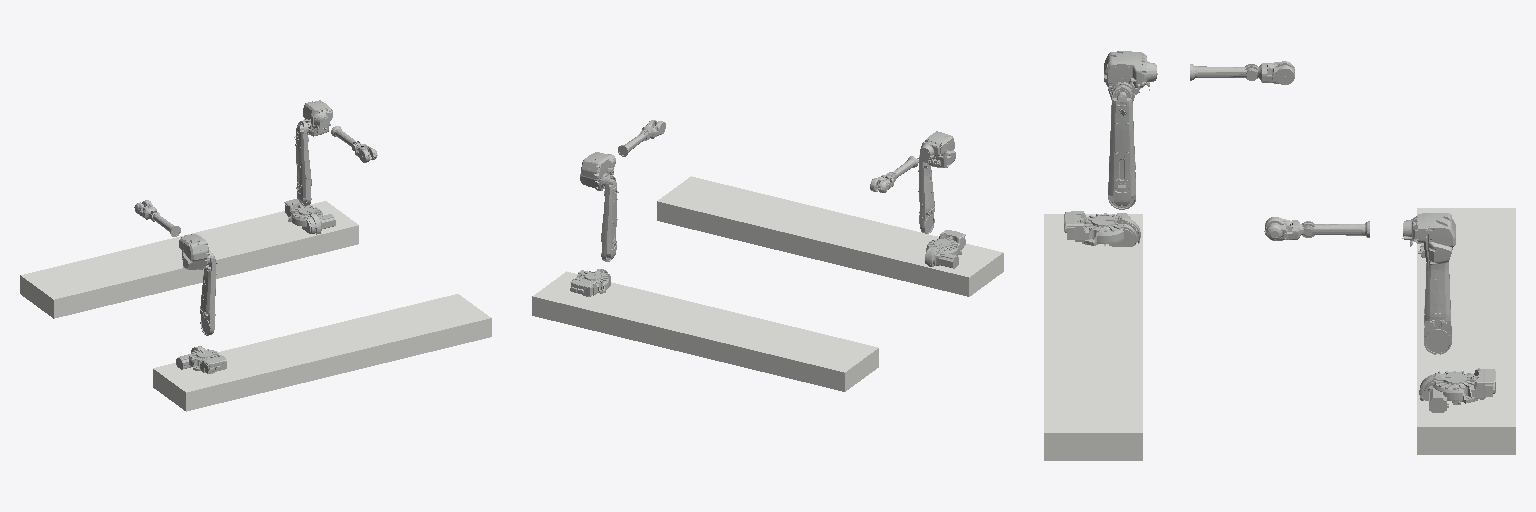
URDF robot description (princeton_cell):
<?xml version="1.0" ?>
<!-- =================================================================================== -->
<!-- |    This document was autogenerated by xacro from princeton_cell.xacro           | -->
<!-- |    EDITING THIS FILE BY HAND IS NOT RECOMMENDED                                 | -->
<!-- =================================================================================== -->
<robot name="princeton_cell">
  <link name="world"/>
  <joint name="r2_world_joint" type="fixed">
    <parent link="world"/>
    <child link="r2_axis"/>
    <origin rpy="0.0 0.0 0.0" xyz="0.0 0.0 0.0"/>
  </joint>
  <!-- Conversion were obtained from http://www.e-paint.co.uk/Lab_values.asp
       unless otherwise stated. -->
  <!-- Conversion were obtained from http://www.e-paint.co.uk/Lab_values.asp
       unless otherwise stated. -->
  <link name="r2_axis">
    <inertial>
      <origin xyz="0.0 0.0 0.0"/>
      <mass value="120"/>
      <inertia ixx="-4.98000" ixy="-0.00000" ixz="2.70000" iyy="-5.95200" iyz="-0.00000" izz="0.82800"/>
    </inertial>
    <visual>
      <geometry>
        <mesh filename="package://princeton_cell/meshes/visual/axis.stl"/>
      </geometry>
      <material name="">
        <color rgba="0.9254902 0.9254902 0.9058824 1"/>
      </material>
    </visual>
    <collision>
      <geometry>
        <mesh filename="package://princeton_cell/meshes/collision/axis.stl"/>
      </geometry>
    </collision>
  </link>
  <joint name="r2_cart_joint" type="prismatic">
    <parent link="r2_axis"/>
    <child link="r2_cart"/>
    <origin rpy="0 0 0 " xyz="0 0 0"/>
    <axis xyz="1 0 0"/>
    <limit effort="100000" lower="0" upper="3.9" velocity="2.618"/>
    <dynamics damping="0.2" friction="0"/>
  </joint>
  <link name="r2_cart">
    <inertial>
      <origin xyz="0.0 0.0 0.0"/>
      <mass value="120.00000"/>
      <inertia ixx="-4.98000" ixy="-0.00000" ixz="2.70000" iyy="-5.95200" iyz="-0.00000" izz="0.82800"/>
    </inertial>
    <visual>
      <geometry>
        <mesh filename="package://princeton_cell/meshes/visual/cart.stl"/>
      </geometry>
      <material name="">
        <color rgba="0.9254902 0.9254902 0.9058824 1"/>
      </material>
    </visual>
    <collision>
      <geometry>
        <mesh filename="package://princeton_cell/meshes/collision/cart.stl"/>
      </geometry>
    </collision>
  </link>
  <joint name="r2_abb_joint" type="fixed">
    <parent link="r2_cart"/>
    <child link="r2_base_link"/>
    <origin rpy="0 0 1.5707963267948966 " xyz="0 0 0 "/>
    <dynamics damping="0.2" friction="0"/>
  </joint>
  <!-- link list -->
  <link name="r2_base_link">
    <inertial>
      <origin xyz="0.0 0.0 0.0"/>
      <mass value="120.00000"/>
      <inertia ixx="-4.98000" ixy="-0.00000" ixz="2.70000" iyy="-5.95200" iyz="-0.00000" izz="0.82800"/>
    </inertial>
    <visual>
      <geometry>
        <mesh filename="package://abb_irb4600_40_255/meshes/visual/base_link.stl"/>
      </geometry>
      <material name="">
        <color rgba="0.7725490 0.7803922 0.7686275 1"/>
      </material>
    </visual>
    <collision>
      <geometry>
        <mesh filename="package://abb_irb4600_40_255/meshes/collision/base_link.stl"/>
      </geometry>
    </collision>
  </link>
  <link name="r2_link_1">
    <inertial>
      <origin xyz="0.18000 0.00000 0.50000"/>
      <mass value="120.00000"/>
      <inertia ixx="-4.98000" ixy="-0.00000" ixz="2.70000" iyy="-5.95200" iyz="-0.00000" izz="0.82800"/>
    </inertial>
    <visual>
      <geometry>
        <mesh filename="package://abb_irb4600_40_255/meshes/visual/link_1.stl"/>
      </geometry>
      <material name="">
        <color rgba="0.7725490 0.7803922 0.7686275 1"/>
      </material>
    </visual>
    <collision>
      <geometry>
        <mesh filename="package://abb_irb4600_40_255/meshes/collision/link_1.stl"/>
      </geometry>
    </collision>
  </link>
  <link name="r2_link_2">
    <inertial>
      <origin xyz="0.94000 0.08000 -0.34000"/>
      <mass value="120.00000"/>
      <inertia ixx="-2.96000" ixy="2.25600" ixz="-9.58800" iyy="-18.72601" iyz="-0.81600" izz="-14.95000"/>
    </inertial>
    <visual>
      <geometry>
        <mesh filename="package://abb_irb4600_40_255/meshes/visual/link_2.stl"/>
      </geometry>
      <material name="">
        <color rgba="0.7725490 0.7803922 0.7686275 1"/>
      </material>
    </visual>
    <collision>
      <geometry>
        <mesh filename="package://abb_irb4600_40_255/meshes/collision/link_2.stl"/>
      </geometry>
    </collision>
  </link>
  <link name="r2_link_3">
    <inertial>
      <origin xyz="0.07000 -0.26600 0.08800"/>
      <mass value="120.00000"/>
      <inertia ixx="1.34500" ixy="-0.55860" ixz="0.18480" iyy="4.65068" iyz="-0.70224" izz="2.76032"/>
    </inertial>
    <visual>
      <geometry>
        <mesh filename="package://abb_irb4600_40_255/meshes/visual/link_3.stl"/>
      </geometry>
      <material name="">
        <color rgba="0.7725490 0.7803922 0.7686275 1"/>
      </material>
    </visual>
    <collision>
      <geometry>
        <mesh filename="package://abb_irb4600_40_255/meshes/collision/link_3.stl"/>
      </geometry>
    </collision>
  </link>
  <link name="r2_link_4">
    <inertial>
      <origin xyz="0.00000 0.00000 1.00000"/>
      <mass value="40.00000"/>
      <inertia ixx="-8.00000" ixy="-0.00000" ixz="-0.00000" iyy="-8.00000" iyz="-0.00000" izz="0.48200"/>
    </inertial>
    <visual>
      <geometry>
        <mesh filename="package://abb_irb4600_40_255/meshes/visual/link_4.stl"/>
      </geometry>
      <material name="">
        <color rgba="0.7725490 0.7803922 0.7686275 1"/>
      </material>
    </visual>
    <collision>
      <geometry>
        <mesh filename="package://abb_irb4600_40_255/meshes/collision/link_4.stl"/>
      </geometry>
    </collision>
  </link>
  <link name="r2_link_5">
    <inertial>
      <origin xyz="0.14000 0.00000 0.00000"/>
      <mass value="10.00000"/>
      <inertia ixx="0.04000" ixy="-0.00000" ixz="-0.00000" iyy="-0.00900" iyz="-0.00000" izz="-0.00400"/>
    </inertial>
    <visual>
      <geometry>
        <mesh filename="package://abb_irb4600_40_255/meshes/visual/link_5.stl"/>
      </geometry>
      <material name="">
        <color rgba="0.7725490 0.7803922 0.7686275 1"/>
      </material>
    </visual>
    <collision>
      <geometry>
        <mesh filename="package://abb_irb4600_40_255/meshes/collision/link_5.stl"/>
      </geometry>
    </collision>
  </link>
  <link name="r2_link_6">
    <inertial>
      <origin xyz="0.08100 -0.09100 0.33200"/>
      <mass value="5.00000"/>
      <inertia ixx="-0.29652" ixy="-0.03686" ixz="0.09396" iyy="-0.28792" iyz="-0.10556" izz="-0.04621"/>
    </inertial>
    <visual>
      <geometry>
        <mesh filename="package://abb_irb4600_40_255/meshes/visual/link_6.stl"/>
      </geometry>
      <material name="">
        <color rgba="0.1882353 0.1960784 0.2039216 1"/>
      </material>
    </visual>
    <collision>
      <geometry>
        <mesh filename="package://abb_irb4600_40_255/meshes/collision/link_6.stl"/>
      </geometry>
    </collision>
  </link>
  <link name="r2_tool0"/>
  <!-- end of link list -->
  <!-- joint list -->
  <joint name="r2_joint_1" type="revolute">
    <parent link="r2_base_link"/>
    <child link="r2_link_1"/>
    <origin rpy="0 0 0 " xyz="0 0 0"/>
    <axis xyz="0 0 1"/>
    <limit effort="100000" lower="-3.14159" upper="3.14159" velocity="2.618"/>
    <dynamics damping="0.2" friction="0"/>
  </joint>
  <joint name="r2_joint_2" type="revolute">
    <parent link="r2_link_1"/>
    <child link="r2_link_2"/>
    <origin rpy="0 -0 0 " xyz="0.175 0 0.495"/>
    <axis xyz="0 1 0"/>
    <limit effort="100000" lower="-1.5708" upper="2.61799" velocity="2.618"/>
    <dynamics damping="0.2" friction="0"/>
  </joint>
  <joint name="r2_joint_3" type="revolute">
    <parent link="r2_link_2"/>
    <child link="r2_link_3"/>
    <origin rpy="0 -0 0 " xyz="0 0 1.095"/>
    <axis xyz="0 1 0"/>
    <limit effort="100000" lower="-3.14159" upper="1.309" velocity="2.618"/>
    <dynamics damping="0.2" friction="0"/>
  </joint>
  <joint name="r2_joint_4" type="revolute">
    <parent link="r2_link_3"/>
    <child link="r2_link_4"/>
    <origin rpy="0 -0 0 " xyz="0.332 0 0.175"/>
    <axis xyz="1 0 0"/>
    <limit effort="10000" lower="-6.98132" upper="6.98132" velocity="6.2832"/>
    <dynamics damping="0.2" friction="0"/>
  </joint>
  <joint name="r2_joint_5" type="revolute">
    <parent link="r2_link_4"/>
    <child link="r2_link_5"/>
    <origin rpy="0 -0 0 " xyz="0.939 0 0"/>
    <axis xyz="0 1 0"/>
    <limit effort="100000" lower="-2.18166" upper="2.0944" velocity="6.2832"/>
    <dynamics damping="0.2" friction="0"/>
  </joint>
  <joint name="r2_joint_6" type="revolute">
    <parent link="r2_link_5"/>
    <child link="r2_link_6"/>
    <origin rpy="0 1.57076 0 " xyz="0.135 0 0"/>
    <axis xyz="0 0 1"/>
    <limit effort="100000" lower="-6.98132" upper="6.98132" velocity="7.854"/>
    <dynamics damping="0.2" friction="0"/>
  </joint>
  <joint name="r2_joint_6-tool0" type="fixed">
    <parent link="r2_link_6"/>
    <child link="r2_tool0"/>
    <origin rpy="0 0 0" xyz="0 0 0"/>
  </joint>
  <!-- end of joint list -->
  <!-- ROS base_link to ABB World Coordinates transform -->
  <link name="r2_base"/>
  <joint name="r2_base_link-base" type="fixed">
    <origin rpy="0 0 0" xyz="0 0 0"/>
    <parent link="r2_base_link"/>
    <child link="r2_base"/>
  </joint>
  <!-- Create a fixed joint with a parameterized name. -->
  <joint name="r2_gripper_joint" type="fixed">
    <!-- The parent link must be read from the robot model it is attached to. -->
    <parent link="r2_tool0"/>
    <child link="r2_gripper"/>
    <!-- The tool is directly attached to the flange. -->
    <origin rpy="0 0 0" xyz="0 0 0"/>
  </joint>
  <link name="r2_gripper">
    <visual>
      <geometry>
        <!-- The path to the visual meshes in the package. -->
        <mesh filename="package://princeton_cell/meshes/visual/gripper.stl"/>
      </geometry>
    </visual>
    <collision>
      <geometry>
        <!-- The path to the collision meshes in the package. -->
        <mesh filename="package://princeton_cell/meshes/collision/gripper.stl"/>
      </geometry>
    </collision>
  </link>
  <!-- TCP frame -->
  <joint name="r2_tcp_joint" type="fixed">
    <origin rpy="0 0 0" xyz="0 0 0.352"/>
    <parent link="r2_gripper"/>
    <child link="r2_tcp"/>
  </joint>
  <link name="r2_tcp"/>
  <joint name="r1_world_joint" type="fixed">
    <parent link="world"/>
    <child link="r1_axis"/>
    <origin rpy="0.0 0.0 3.14159" xyz="3.70 3.45 0.02"/>
  </joint>
  <!-- Conversion were obtained from http://www.e-paint.co.uk/Lab_values.asp
       unless otherwise stated. -->
  <!-- Conversion were obtained from http://www.e-paint.co.uk/Lab_values.asp
       unless otherwise stated. -->
  <link name="r1_axis">
    <inertial>
      <origin xyz="0.0 0.0 0.0"/>
      <mass value="120"/>
      <inertia ixx="-4.98000" ixy="-0.00000" ixz="2.70000" iyy="-5.95200" iyz="-0.00000" izz="0.82800"/>
    </inertial>
    <visual>
      <geometry>
        <mesh filename="package://princeton_cell/meshes/visual/axis.stl"/>
      </geometry>
      <material name="">
        <color rgba="0.9254902 0.9254902 0.9058824 1"/>
      </material>
    </visual>
    <collision>
      <geometry>
        <mesh filename="package://princeton_cell/meshes/collision/axis.stl"/>
      </geometry>
    </collision>
  </link>
  <joint name="r1_cart_joint" type="prismatic">
    <parent link="r1_axis"/>
    <child link="r1_cart"/>
    <origin rpy="0 0 0 " xyz="0 0 0"/>
    <axis xyz="1 0 0"/>
    <limit effort="100000" lower="0" upper="3.9" velocity="2.618"/>
    <dynamics damping="0.2" friction="0"/>
  </joint>
  <link name="r1_cart">
    <inertial>
      <origin xyz="0.0 0.0 0.0"/>
      <mass value="120.00000"/>
      <inertia ixx="-4.98000" ixy="-0.00000" ixz="2.70000" iyy="-5.95200" iyz="-0.00000" izz="0.82800"/>
    </inertial>
    <visual>
      <geometry>
        <mesh filename="package://princeton_cell/meshes/visual/cart.stl"/>
      </geometry>
      <material name="">
        <color rgba="0.9254902 0.9254902 0.9058824 1"/>
      </material>
    </visual>
    <collision>
      <geometry>
        <mesh filename="package://princeton_cell/meshes/collision/cart.stl"/>
      </geometry>
    </collision>
  </link>
  <joint name="r1_abb_joint" type="fixed">
    <parent link="r1_cart"/>
    <child link="r1_base_link"/>
    <origin rpy="0 0 1.5707963267948966 " xyz="0 0 0 "/>
    <dynamics damping="0.2" friction="0"/>
  </joint>
  <!-- link list -->
  <link name="r1_base_link">
    <inertial>
      <origin xyz="0.0 0.0 0.0"/>
      <mass value="120.00000"/>
      <inertia ixx="-4.98000" ixy="-0.00000" ixz="2.70000" iyy="-5.95200" iyz="-0.00000" izz="0.82800"/>
    </inertial>
    <visual>
      <geometry>
        <mesh filename="package://abb_irb4600_40_255/meshes/visual/base_link.stl"/>
      </geometry>
      <material name="">
        <color rgba="0.7725490 0.7803922 0.7686275 1"/>
      </material>
    </visual>
    <collision>
      <geometry>
        <mesh filename="package://abb_irb4600_40_255/meshes/collision/base_link.stl"/>
      </geometry>
    </collision>
  </link>
  <link name="r1_link_1">
    <inertial>
      <origin xyz="0.18000 0.00000 0.50000"/>
      <mass value="120.00000"/>
      <inertia ixx="-4.98000" ixy="-0.00000" ixz="2.70000" iyy="-5.95200" iyz="-0.00000" izz="0.82800"/>
    </inertial>
    <visual>
      <geometry>
        <mesh filename="package://abb_irb4600_40_255/meshes/visual/link_1.stl"/>
      </geometry>
      <material name="">
        <color rgba="0.7725490 0.7803922 0.7686275 1"/>
      </material>
    </visual>
    <collision>
      <geometry>
        <mesh filename="package://abb_irb4600_40_255/meshes/collision/link_1.stl"/>
      </geometry>
    </collision>
  </link>
  <link name="r1_link_2">
    <inertial>
      <origin xyz="0.94000 0.08000 -0.34000"/>
      <mass value="120.00000"/>
      <inertia ixx="-2.96000" ixy="2.25600" ixz="-9.58800" iyy="-18.72601" iyz="-0.81600" izz="-14.95000"/>
    </inertial>
    <visual>
      <geometry>
        <mesh filename="package://abb_irb4600_40_255/meshes/visual/link_2.stl"/>
      </geometry>
      <material name="">
        <color rgba="0.7725490 0.7803922 0.7686275 1"/>
      </material>
    </visual>
    <collision>
      <geometry>
        <mesh filename="package://abb_irb4600_40_255/meshes/collision/link_2.stl"/>
      </geometry>
    </collision>
  </link>
  <link name="r1_link_3">
    <inertial>
      <origin xyz="0.07000 -0.26600 0.08800"/>
      <mass value="120.00000"/>
      <inertia ixx="1.34500" ixy="-0.55860" ixz="0.18480" iyy="4.65068" iyz="-0.70224" izz="2.76032"/>
    </inertial>
    <visual>
      <geometry>
        <mesh filename="package://abb_irb4600_40_255/meshes/visual/link_3.stl"/>
      </geometry>
      <material name="">
        <color rgba="0.7725490 0.7803922 0.7686275 1"/>
      </material>
    </visual>
    <collision>
      <geometry>
        <mesh filename="package://abb_irb4600_40_255/meshes/collision/link_3.stl"/>
      </geometry>
    </collision>
  </link>
  <link name="r1_link_4">
    <inertial>
      <origin xyz="0.00000 0.00000 1.00000"/>
      <mass value="40.00000"/>
      <inertia ixx="-8.00000" ixy="-0.00000" ixz="-0.00000" iyy="-8.00000" iyz="-0.00000" izz="0.48200"/>
    </inertial>
    <visual>
      <geometry>
        <mesh filename="package://abb_irb4600_40_255/meshes/visual/link_4.stl"/>
      </geometry>
      <material name="">
        <color rgba="0.7725490 0.7803922 0.7686275 1"/>
      </material>
    </visual>
    <collision>
      <geometry>
        <mesh filename="package://abb_irb4600_40_255/meshes/collision/link_4.stl"/>
      </geometry>
    </collision>
  </link>
  <link name="r1_link_5">
    <inertial>
      <origin xyz="0.14000 0.00000 0.00000"/>
      <mass value="10.00000"/>
      <inertia ixx="0.04000" ixy="-0.00000" ixz="-0.00000" iyy="-0.00900" iyz="-0.00000" izz="-0.00400"/>
    </inertial>
    <visual>
      <geometry>
        <mesh filename="package://abb_irb4600_40_255/meshes/visual/link_5.stl"/>
      </geometry>
      <material name="">
        <color rgba="0.7725490 0.7803922 0.7686275 1"/>
      </material>
    </visual>
    <collision>
      <geometry>
        <mesh filename="package://abb_irb4600_40_255/meshes/collision/link_5.stl"/>
      </geometry>
    </collision>
  </link>
  <link name="r1_link_6">
    <inertial>
      <origin xyz="0.08100 -0.09100 0.33200"/>
      <mass value="5.00000"/>
      <inertia ixx="-0.29652" ixy="-0.03686" ixz="0.09396" iyy="-0.28792" iyz="-0.10556" izz="-0.04621"/>
    </inertial>
    <visual>
      <geometry>
        <mesh filename="package://abb_irb4600_40_255/meshes/visual/link_6.stl"/>
      </geometry>
      <material name="">
        <color rgba="0.1882353 0.1960784 0.2039216 1"/>
      </material>
    </visual>
    <collision>
      <geometry>
        <mesh filename="package://abb_irb4600_40_255/meshes/collision/link_6.stl"/>
      </geometry>
    </collision>
  </link>
  <link name="r1_tool0"/>
  <!-- end of link list -->
  <!-- joint list -->
  <joint name="r1_joint_1" type="revolute">
    <parent link="r1_base_link"/>
    <child link="r1_link_1"/>
    <origin rpy="0 0 0 " xyz="0 0 0"/>
    <axis xyz="0 0 1"/>
    <limit effort="100000" lower="-3.14159" upper="3.14159" velocity="2.618"/>
    <dynamics damping="0.2" friction="0"/>
  </joint>
  <joint name="r1_joint_2" type="revolute">
    <parent link="r1_link_1"/>
    <child link="r1_link_2"/>
    <origin rpy="0 -0 0 " xyz="0.175 0 0.495"/>
    <axis xyz="0 1 0"/>
    <limit effort="100000" lower="-1.5708" upper="2.61799" velocity="2.618"/>
    <dynamics damping="0.2" friction="0"/>
  </joint>
  <joint name="r1_joint_3" type="revolute">
    <parent link="r1_link_2"/>
    <child link="r1_link_3"/>
    <origin rpy="0 -0 0 " xyz="0 0 1.095"/>
    <axis xyz="0 1 0"/>
    <limit effort="100000" lower="-3.14159" upper="1.309" velocity="2.618"/>
    <dynamics damping="0.2" friction="0"/>
  </joint>
  <joint name="r1_joint_4" type="revolute">
    <parent link="r1_link_3"/>
    <child link="r1_link_4"/>
    <origin rpy="0 -0 0 " xyz="0.332 0 0.175"/>
    <axis xyz="1 0 0"/>
    <limit effort="10000" lower="-6.98132" upper="6.98132" velocity="6.2832"/>
    <dynamics damping="0.2" friction="0"/>
  </joint>
  <joint name="r1_joint_5" type="revolute">
    <parent link="r1_link_4"/>
    <child link="r1_link_5"/>
    <origin rpy="0 -0 0 " xyz="0.939 0 0"/>
    <axis xyz="0 1 0"/>
    <limit effort="100000" lower="-2.18166" upper="2.0944" velocity="6.2832"/>
    <dynamics damping="0.2" friction="0"/>
  </joint>
  <joint name="r1_joint_6" type="revolute">
    <parent link="r1_link_5"/>
    <child link="r1_link_6"/>
    <origin rpy="0 1.57076 0 " xyz="0.135 0 0"/>
    <axis xyz="0 0 1"/>
    <limit effort="100000" lower="-6.98132" upper="6.98132" velocity="7.854"/>
    <dynamics damping="0.2" friction="0"/>
  </joint>
  <joint name="r1_joint_6-tool0" type="fixed">
    <parent link="r1_link_6"/>
    <child link="r1_tool0"/>
    <origin rpy="0 0 0" xyz="0 0 0"/>
  </joint>
  <!-- end of joint list -->
  <!-- ROS base_link to ABB World Coordinates transform -->
  <link name="r1_base"/>
  <joint name="r1_base_link-base" type="fixed">
    <origin rpy="0 0 0" xyz="0 0 0"/>
    <parent link="r1_base_link"/>
    <child link="r1_base"/>
  </joint>
  <!-- Create a fixed joint with a parameterized name. -->
  <joint name="r1_gripper_joint" type="fixed">
    <!-- The parent link must be read from the robot model it is attached to. -->
    <parent link="r1_tool0"/>
    <child link="r1_gripper"/>
    <!-- The tool is directly attached to the flange. -->
    <origin rpy="0 0 0" xyz="0 0 0"/>
  </joint>
  <link name="r1_gripper">
    <visual>
      <geometry>
        <!-- The path to the visual meshes in the package. -->
        <mesh filename="package://princeton_cell/meshes/visual/gripper.stl"/>
      </geometry>
    </visual>
    <collision>
      <geometry>
        <!-- The path to the collision meshes in the package. -->
        <mesh filename="package://princeton_cell/meshes/collision/gripper.stl"/>
      </geometry>
    </collision>
  </link>
  <!-- TCP frame -->
  <joint name="r1_tcp_joint" type="fixed">
    <origin rpy="0 0 0" xyz="0 0 0.352"/>
    <parent link="r1_gripper"/>
    <child link="r1_tcp"/>
  </joint>
  <link name="r1_tcp"/>
</robot>

--- Facts derived from the render (not from the file) ---
Views: 3 orthographic renders of the robot side by side, from view 1: azimuth 30°, elevation 25°; view 2: azimuth 150°, elevation 25°; view 3: azimuth 270°, elevation 25°.
Robot: princeton_cell — 27 links, 26 joints (12 revolute, 2 prismatic, 12 fixed); root link world; default pose: all joints at 0.
Visible links, largest first — view 1: r2_axis, r1_axis, r1_link_2, r2_link_2, r2_link_3, r1_link_3, r2_base_link, r1_base_link; view 2: r1_axis, r2_axis, r1_link_2, r2_link_3, r2_link_2, r1_link_3, r1_base_link, r2_base_link, r2_link_4, r1_link_4; view 3: r2_axis, r1_axis, r2_link_2, r1_link_2, r1_link_3, r2_link_3, r2_base_link, r1_base_link, r1_link_4, r2_link_4, r1_link_1, r2_link_1.
Boxes of the visible links, <box> form: r2_axis: <box>153,294,491,411</box>; r1_axis: <box>20,201,358,318</box>; r1_link_2: <box>294,121,311,205</box>; r2_link_2: <box>200,251,217,335</box>; r2_link_3: <box>179,234,209,269</box>; r1_link_3: <box>303,100,332,136</box>; r2_base_link: <box>189,349,226,373</box>; r1_base_link: <box>284,199,322,226</box>; r1_axis: <box>532,271,878,391</box>; r2_axis: <box>657,176,1003,296</box>; r1_link_2: <box>601,175,618,261</box>; r2_link_3: <box>920,131,955,167</box>; r2_link_2: <box>917,155,934,233</box>; r1_link_3: <box>580,152,615,190</box>; r1_base_link: <box>570,271,609,295</box>; r2_base_link: <box>926,230,965,259</box>; r2_link_4: <box>870,156,917,192</box>; r1_link_4: <box>618,120,665,156</box>; r2_axis: <box>1044,214,1142,460</box>; r1_axis: <box>1417,208,1515,454</box>; r2_link_2: <box>1108,85,1135,209</box>; r1_link_2: <box>1424,262,1451,354</box>; r1_link_3: <box>1402,213,1455,264</box>; r2_link_3: <box>1104,51,1157,100</box>; r2_base_link: <box>1064,211,1124,245</box>; r1_base_link: <box>1433,368,1495,403</box>; r1_link_4: <box>1264,217,1369,240</box>; r2_link_4: <box>1190,61,1294,84</box>; r1_link_1: <box>1419,371,1477,412</box>; r2_link_1: <box>1082,213,1140,246</box>.
Bounding box of the posed robot: 5.18 × 4.63 × 2.32 m (x, y, z).
Meshes: 10 distinct files referenced, 16 mesh visuals loaded (8 binary STL); not drawn: 4 (reference not matched to a file when rendering).